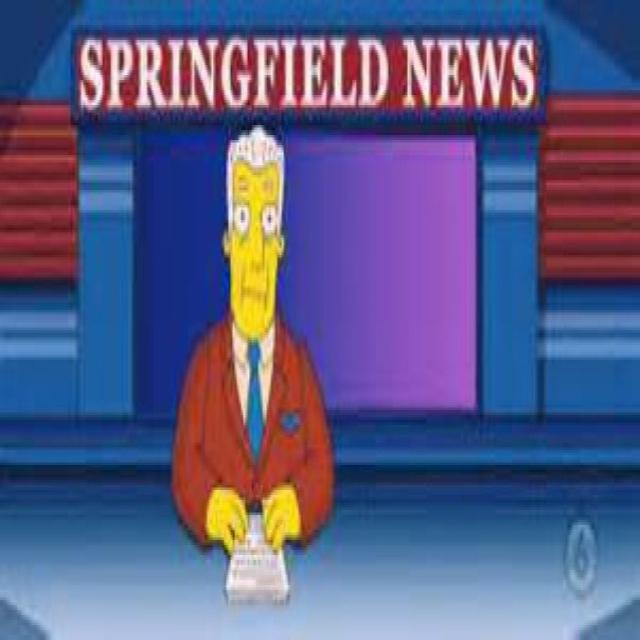Kent Brockman: (218, 121, 288, 349)
